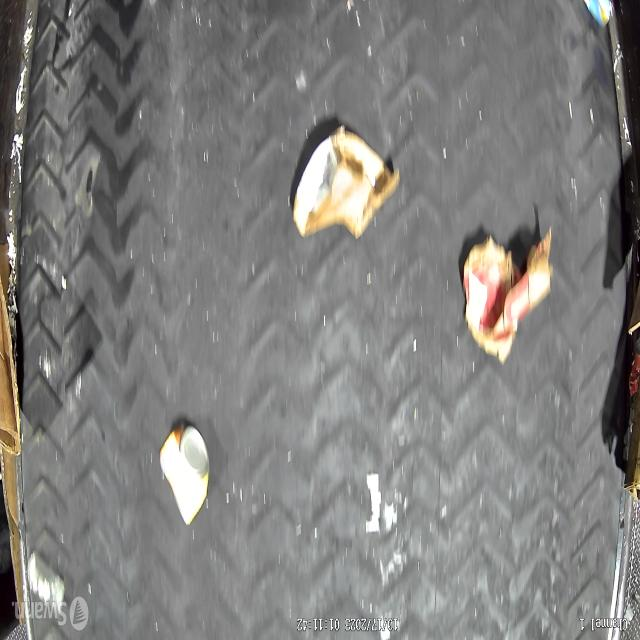can: (159, 419, 210, 526)
